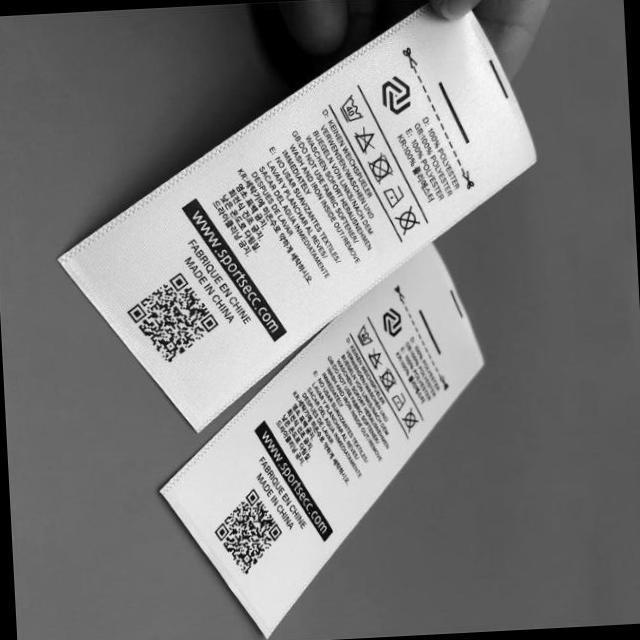40C: (336, 94, 366, 126), (354, 322, 374, 349)
DN_bleach: (352, 125, 378, 158), (365, 347, 383, 371)
DN_dry_clean: (392, 204, 422, 237), (399, 406, 420, 435)
DN_tumble_dry: (364, 150, 396, 187), (376, 365, 398, 394)
iron_low: (381, 183, 408, 210), (390, 391, 408, 413)
